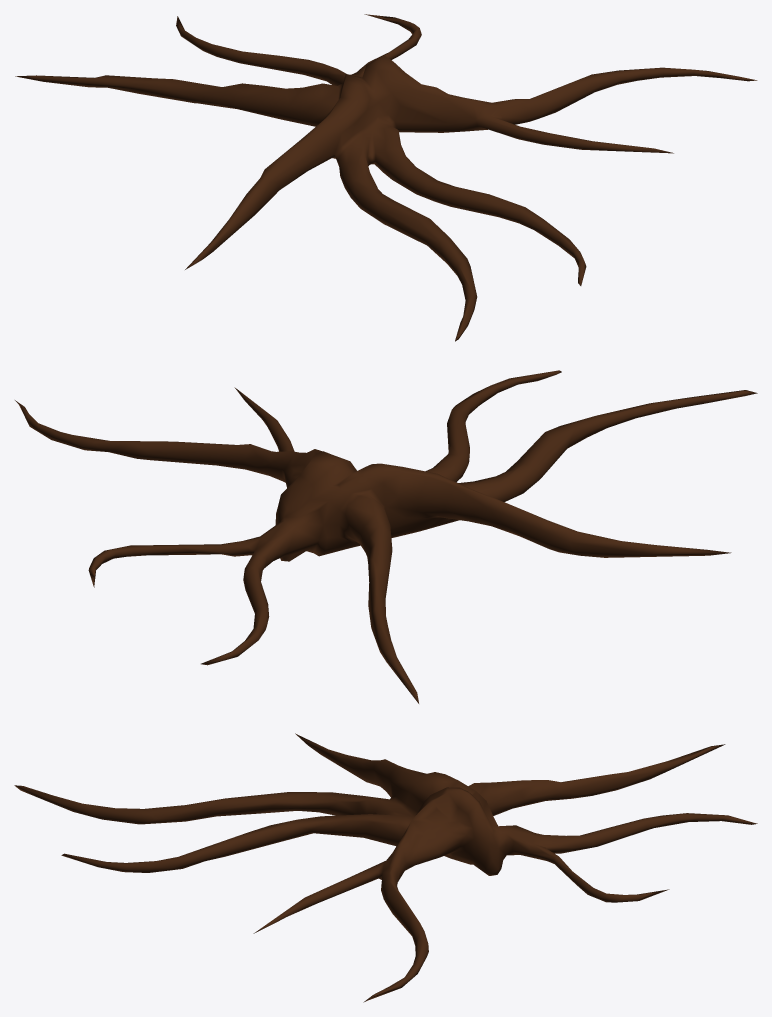
The picture shows the model from 3 angles, top to bottom: view 1: azimuth 30°, elevation 25°; view 2: azimuth 150°, elevation 25°; view 3: azimuth 270°, elevation 25°; orthographic projection. The views are drawn at different scales.
Parts seen in each view (by area): view 1: Object135; view 2: Object135; view 3: Object135.
Part boxes in pixels (left/top/right/bottom): Object135: left=15, top=14, right=757, bottom=341; Object135: left=15, top=370, right=757, bottom=703; Object135: left=14, top=733, right=757, bottom=1002.
Bounding box in the file's own units: 254 × 281 × 33.37.
